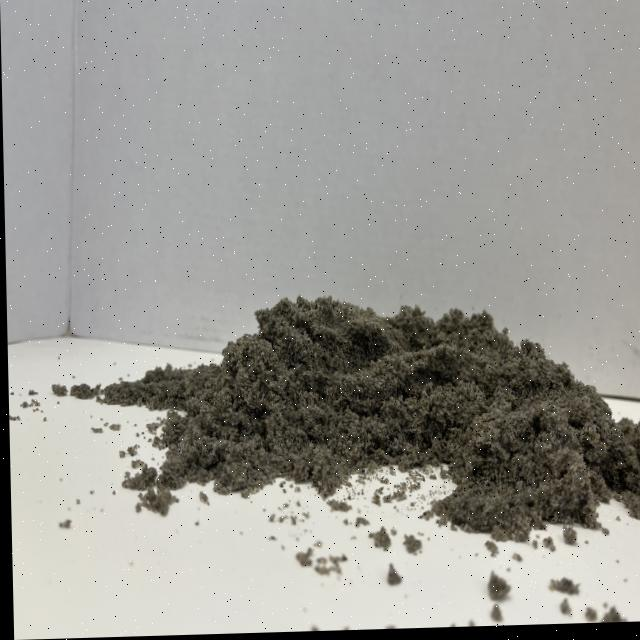sand: (88, 283, 640, 548)
